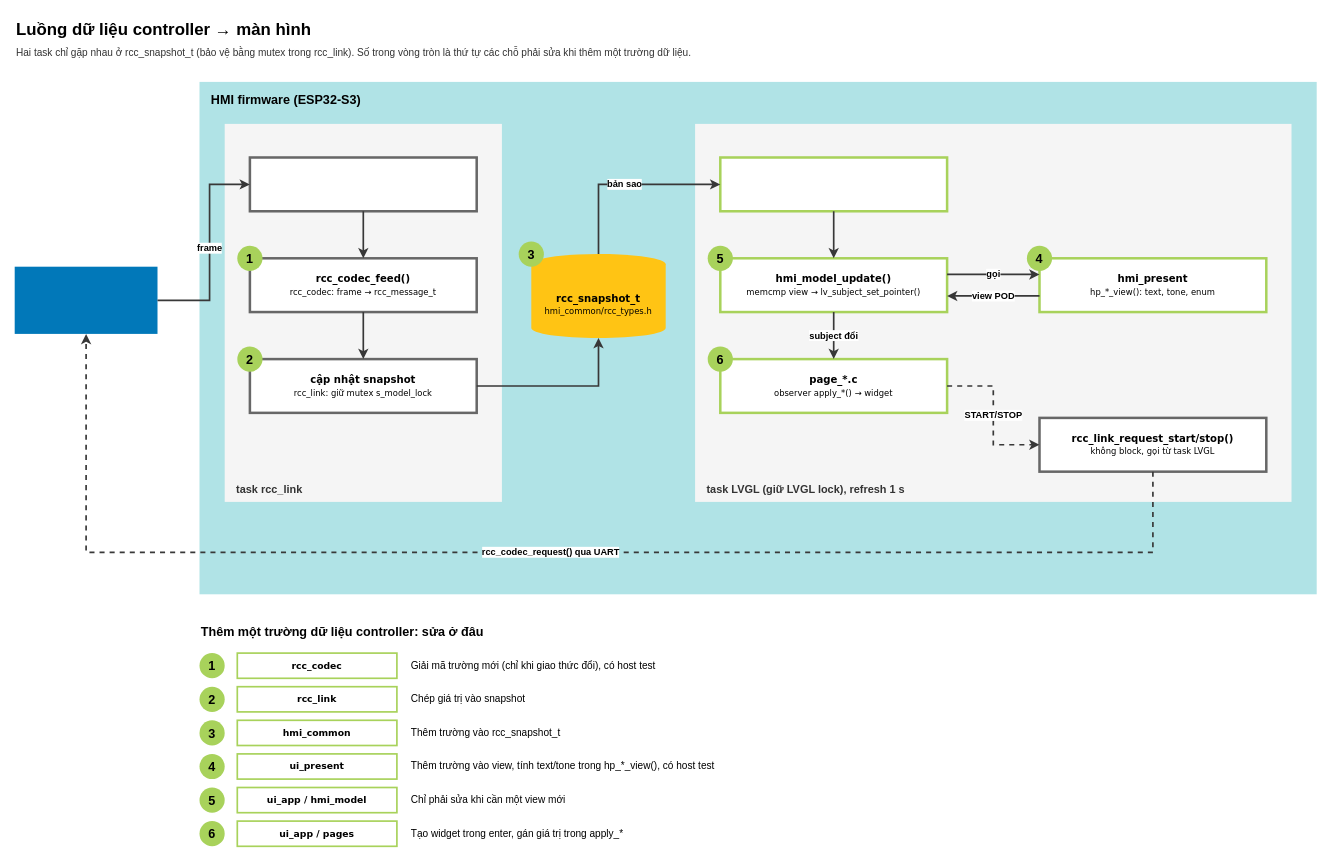
This 1331x861 diagram has some shape labels left out. The shapes that lost their labels are listed below. From the top down, each one's centre as x and y in pixels, then its label:
At (x=363, y=184): "uart_read_bytes() UART1 115200 8N1".
At (x=833, y=184): "hmi_shell rcc_link_snapshot()".
At (x=85, y=299): "Robot Charge Controller".
